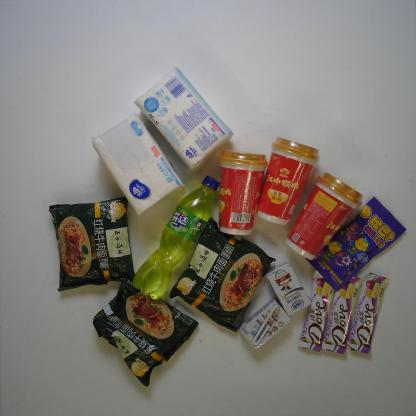Candy: (306, 195, 408, 292)
Chocolate: (347, 272, 389, 354), (322, 276, 363, 356), (297, 270, 335, 353)
Drink: (132, 175, 220, 301)
Instant Drink: (284, 171, 363, 261), (256, 136, 321, 226), (217, 148, 269, 237)
Instant Noodles: (168, 217, 277, 333), (92, 276, 201, 388), (46, 195, 138, 294)
Milk: (238, 298, 292, 350), (265, 262, 312, 317)
Tissue: (133, 64, 234, 173), (90, 114, 186, 216)
